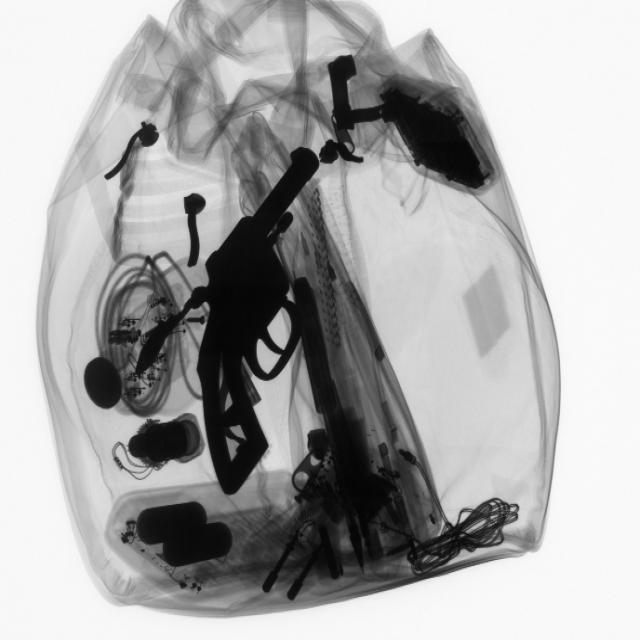GUN: (186, 146, 314, 503)
